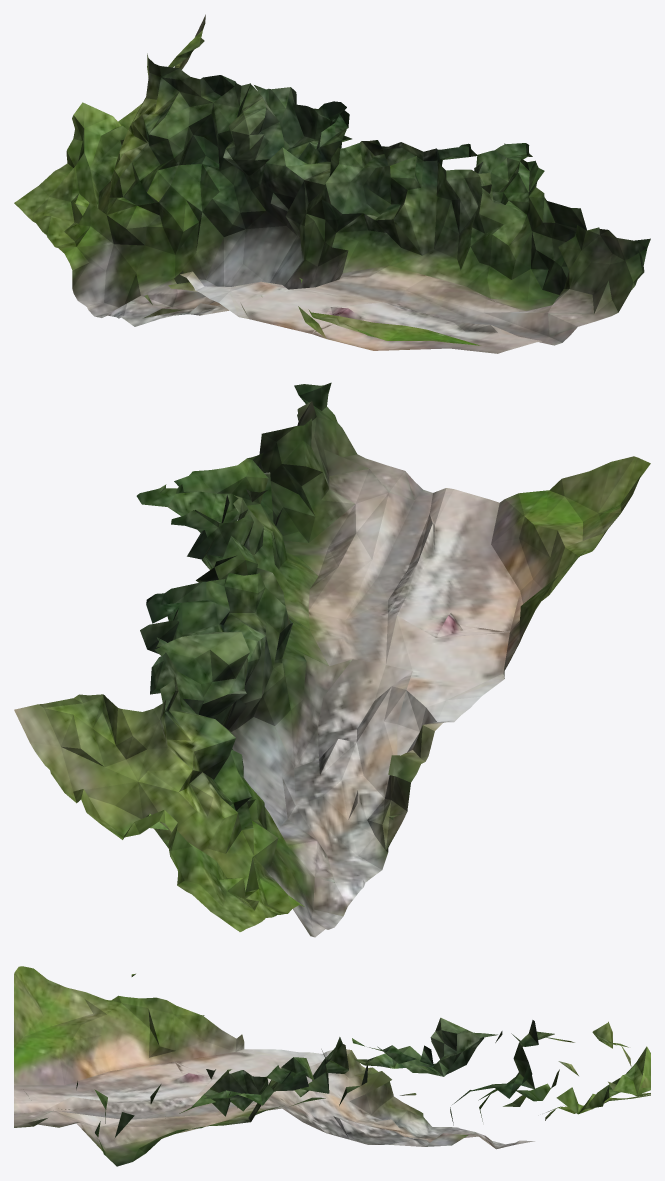
3 views of the same model, one above another, from view 1: azimuth 30°, elevation 25°; view 2: azimuth 150°, elevation 25°; view 3: azimuth 270°, elevation 25° (orthographic). The views are drawn at different scales.
Size of the model in its own units: 51.42 by 32.21 by 104.
Materials: 2 (2 with a texture image).
